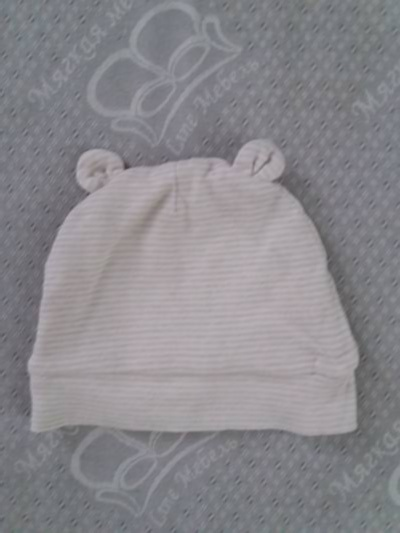Hat: (33, 125, 368, 450)
